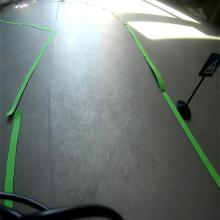crosswalk: (198, 53, 220, 79)
